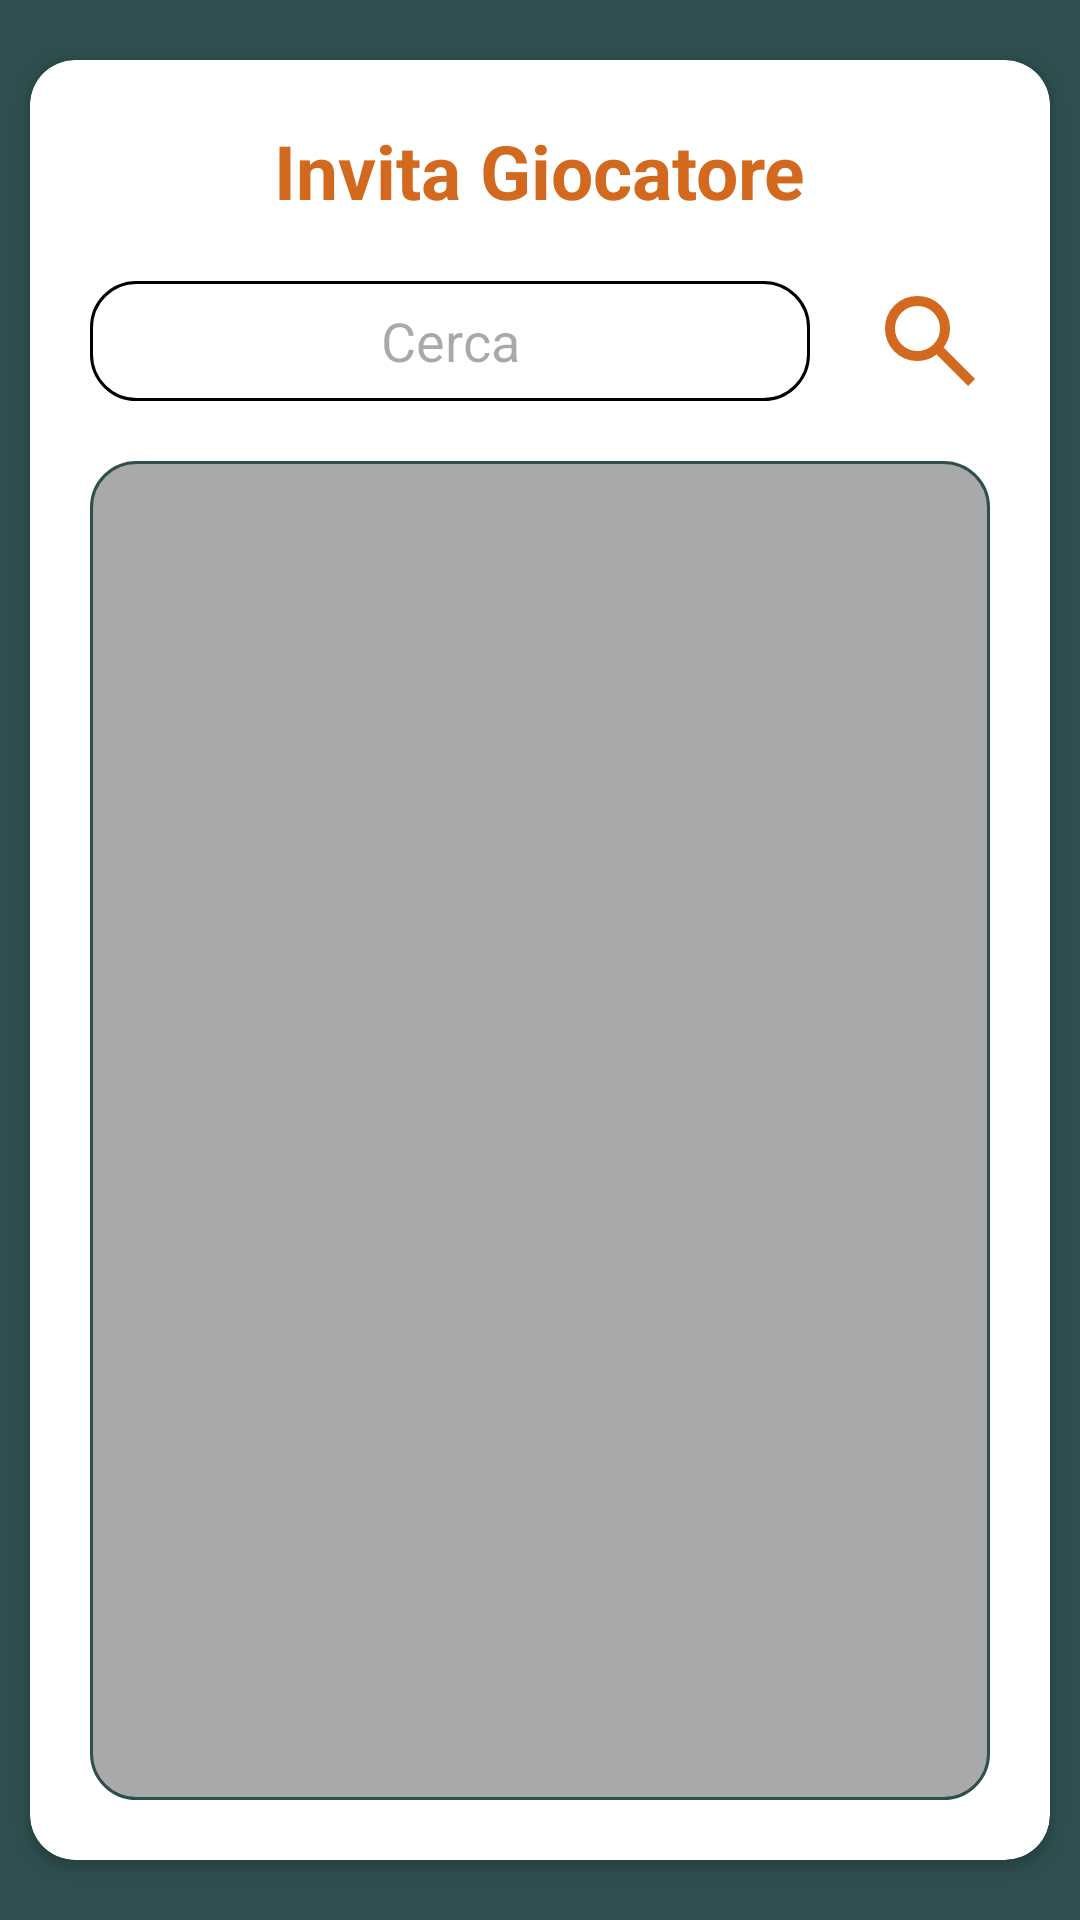

Icon bounding boxes for this 1080px×1920px phone screenshot, format (x1, y1, x2, y2):
symbols search: (885, 296, 975, 386)
